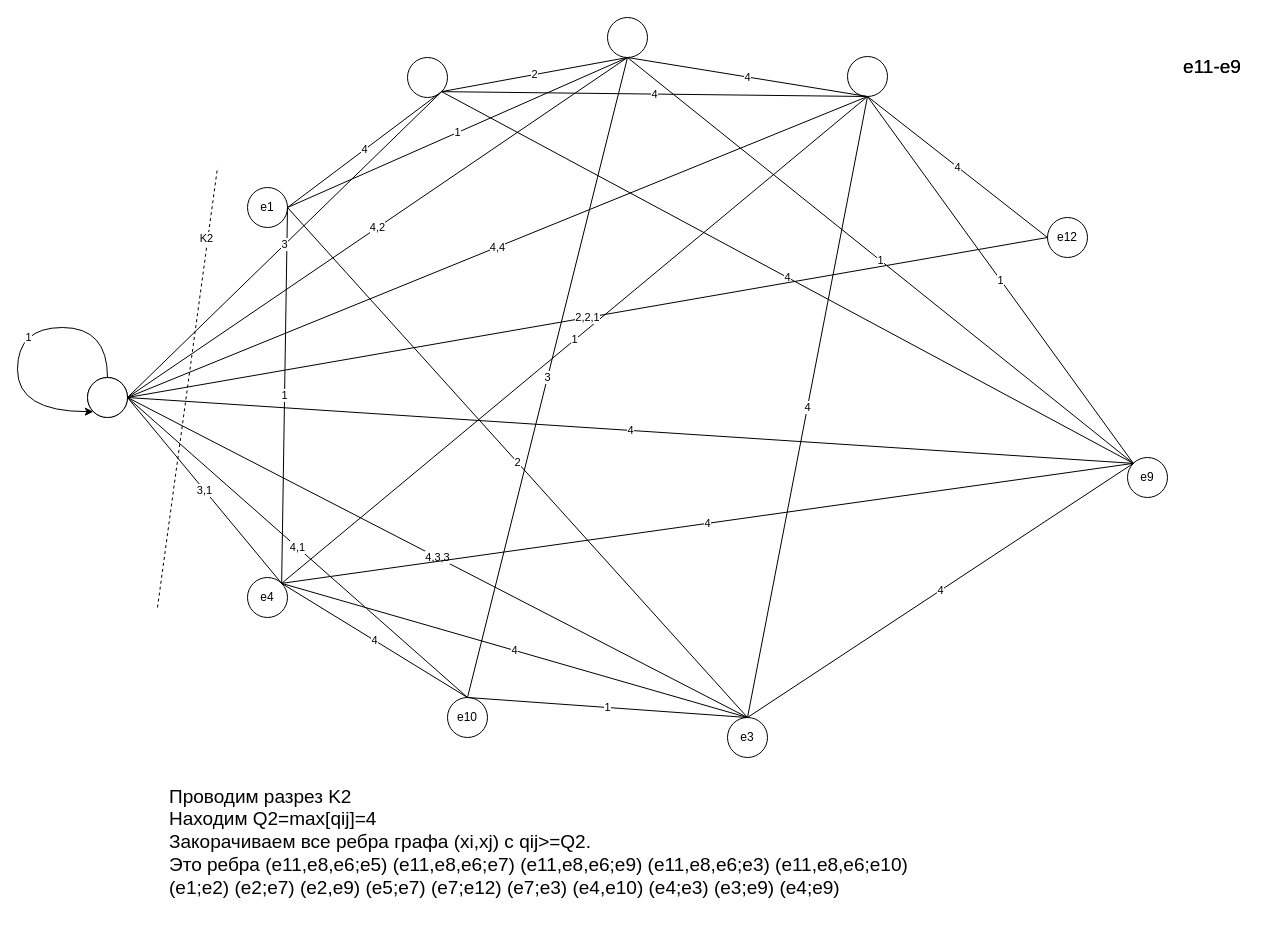
Image size: 1285x925. Some labels were removed from this diagram. Here are the shapes that lost their labels. From the top down, the centre of each, then its label:
At pixel 627 37: "e5".
At pixel 427 77: "e2".
At pixel 867 76: "e7".
At pixel 107 397: "e11,e6 e8".
